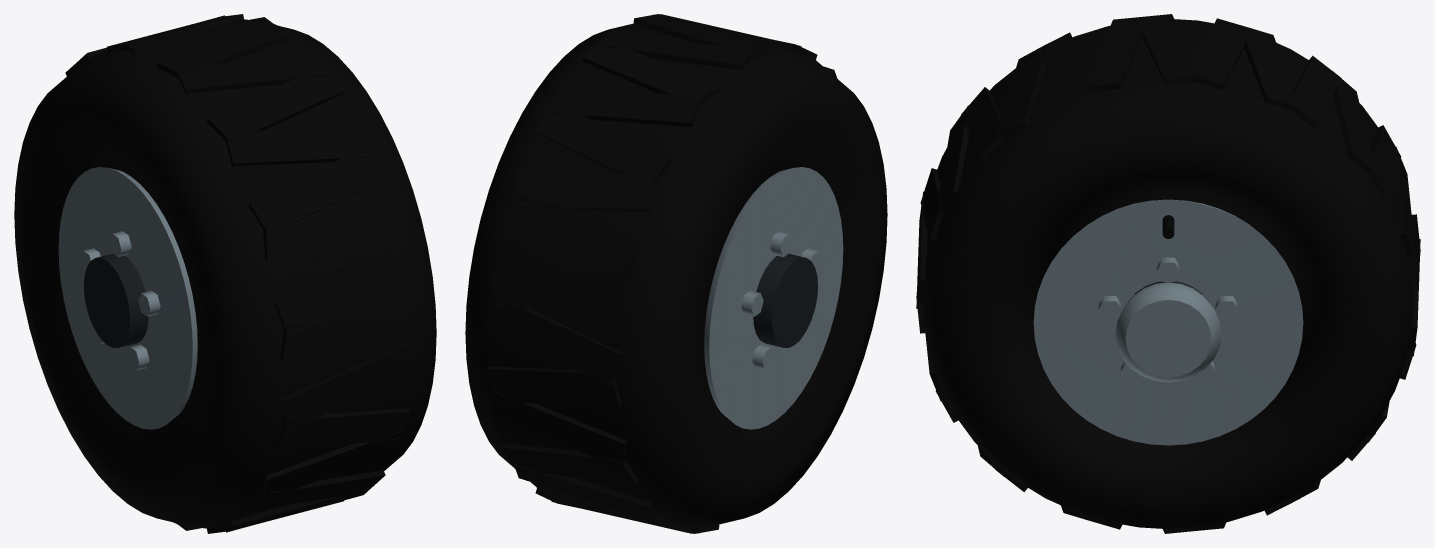
File: SpareTire.gltf
The picture shows the model from 3 angles, left to right: view 1: azimuth 30°, elevation 25°; view 2: azimuth 150°, elevation 25°; view 3: azimuth 270°, elevation 25°; orthographic projection.
Visible parts, largest first — view 1: SpareTire__Wheel; view 2: SpareTire__Wheel; view 3: SpareTire__Wheel, SpareTire__Body.
Boxes of the visible parts, box(x1,y1,x2,y2) form: SpareTire__Wheel: box(14, 14, 436, 533); SpareTire__Wheel: box(465, 14, 887, 533); SpareTire__Wheel: box(916, 14, 1420, 533); SpareTire__Body: box(1115, 282, 1221, 382).
Size of the model in its own units: 0.194 by 0.336 by 0.336.
Materials: 1 (1 with a texture image).
